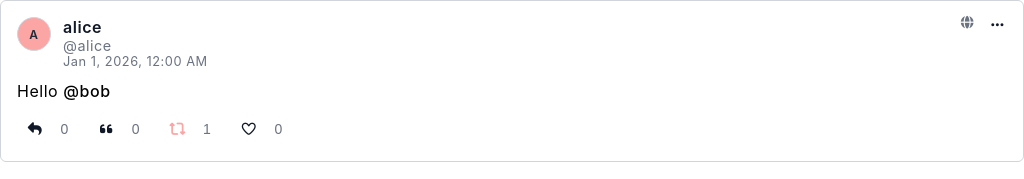
Test: ActivityCard › unboosts a boosted activity and drops the counter
Click the button named "Unboost".
click(177, 129)  # box [160,113,195,145]
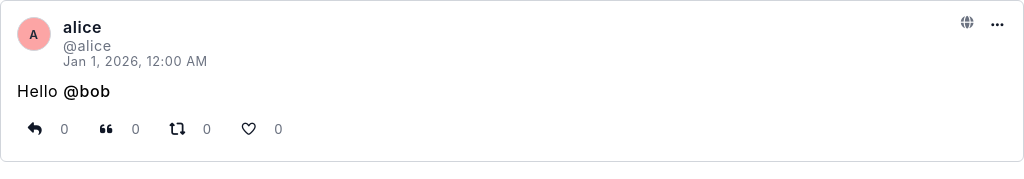
expect the 3rd button with class "activity-card__count" reads "0": met, box [195,117,219,141]
